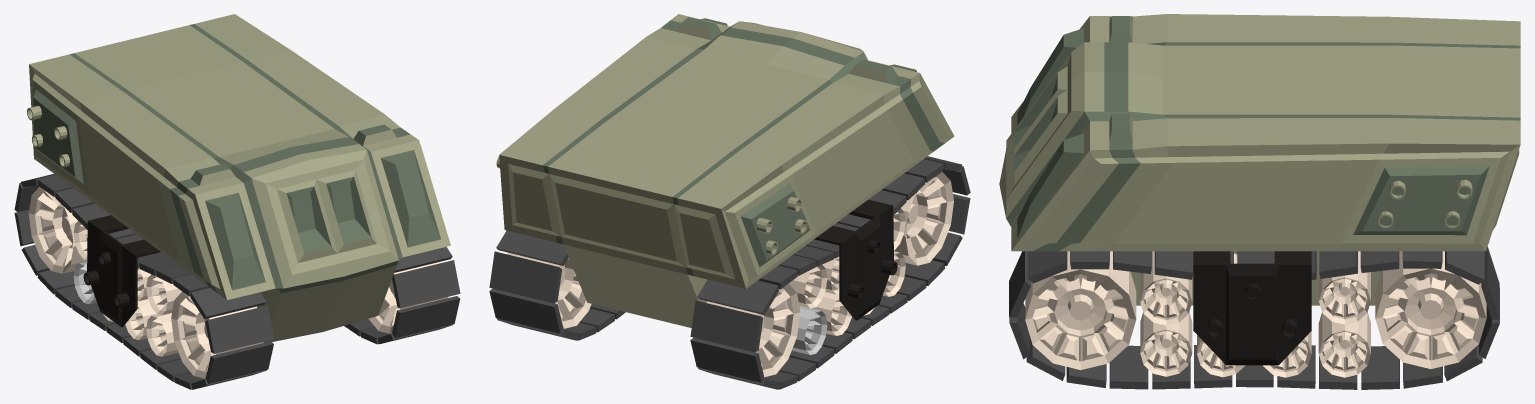
Rendered from tanque.obj.
3 views of the same model, side by side, from view 1: azimuth 30°, elevation 25°; view 2: azimuth 150°, elevation 25°; view 3: azimuth 270°, elevation 25° (orthographic). The views are drawn at different scales.
Parts seen in each view (by area): view 1: Body_Cube.002, Chain.001_Cube.008, Cylinder.018_Cylinder.042, Chain_Cube.001, Cube.000_Cube.007, Cylinder.008_Cylinder.010, Cylinder.016_Cylinder.040; view 2: Body_Cube.002, Chain.001_Cube.008, Cylinder.018_Cylinder.042, Chain_Cube.001, Cube.000_Cube.007, Cylinder.008_Cylinder.010, Cylinder.016_Cylinder.040; view 3: Body_Cube.002, Cylinder.008_Cylinder.010, Chain_Cube.001, Cube.001_Cube.004.
Part boxes in pixels (x1,y1,x2,y2): Body_Cube.002: (27, 14, 450, 342); Chain.001_Cube.008: (14, 174, 273, 389); Cylinder.018_Cylinder.042: (28, 187, 263, 378); Chain_Cube.001: (344, 247, 460, 344); Cube.000_Cube.007: (83, 215, 160, 327); Cylinder.008_Cylinder.010: (368, 261, 448, 333); Cylinder.016_Cylinder.040: (73, 261, 96, 304); Body_Cube.002: (496, 14, 954, 327); Chain.001_Cube.008: (690, 156, 970, 389); Cylinder.018_Cylinder.042: (706, 172, 953, 377); Chain_Cube.001: (489, 230, 625, 340); Cube.000_Cube.007: (814, 199, 897, 320); Cylinder.008_Cylinder.010: (507, 252, 591, 328); Cylinder.016_Cylinder.040: (792, 306, 827, 354); Body_Cube.002: (999, 14, 1520, 305); Cylinder.008_Cylinder.010: (1025, 251, 1486, 377); Chain_Cube.001: (1009, 247, 1499, 389); Cube.001_Cube.004: (1193, 251, 1311, 365).
Size of the model in its own units: 4.9 by 3.45 by 6.62.
